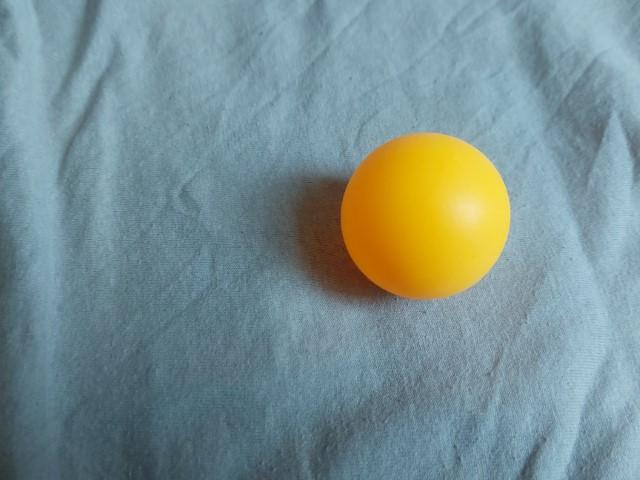oball: (334, 126, 516, 307)
